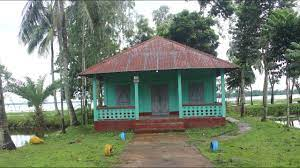Tin-shade House: (77, 39, 243, 133)
